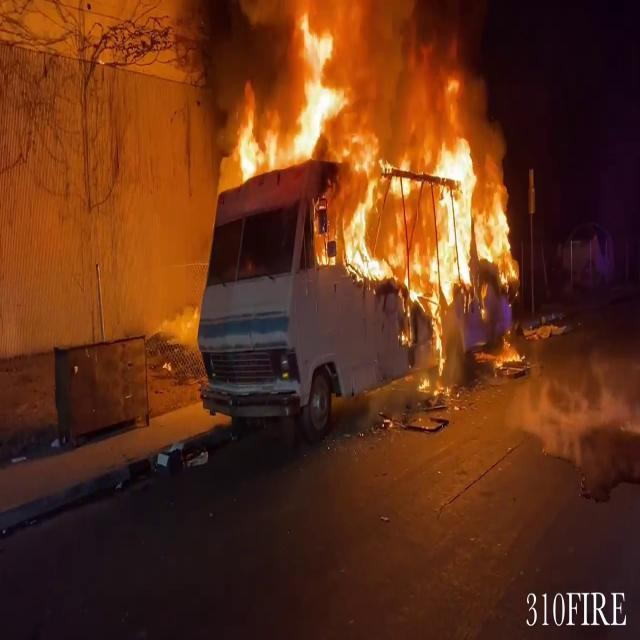Fire: (218, 1, 518, 290)
